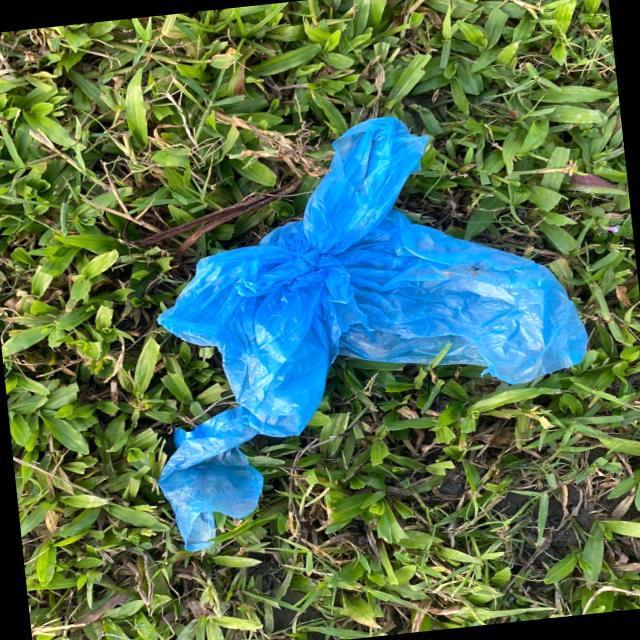polythene: (196, 186, 541, 418)
